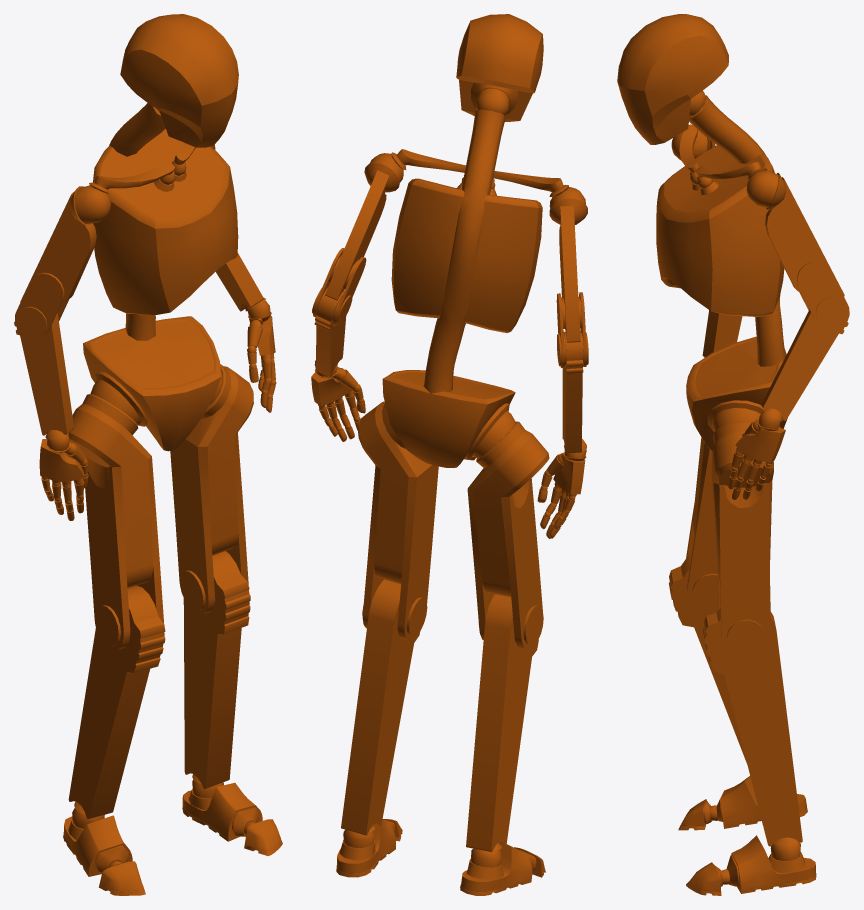
Rendered from RobotAnimacja_000007.obj.
3 views of the same model, side by side, from view 1: azimuth 30°, elevation 25°; view 2: azimuth 150°, elevation 25°; view 3: azimuth 270°, elevation 25° (orthographic). The views are drawn at different scales.
Parts seen in each view (by area): view 1: free3dmodel.001; view 2: free3dmodel.001; view 3: free3dmodel.001.
Boxes of the visible parts, x1,y1,x2,y2 form: free3dmodel.001: [14, 14, 282, 895]; free3dmodel.001: [311, 14, 588, 895]; free3dmodel.001: [617, 14, 849, 895].
Size of the model in its own units: 1.95 by 5.98 by 1.53.
